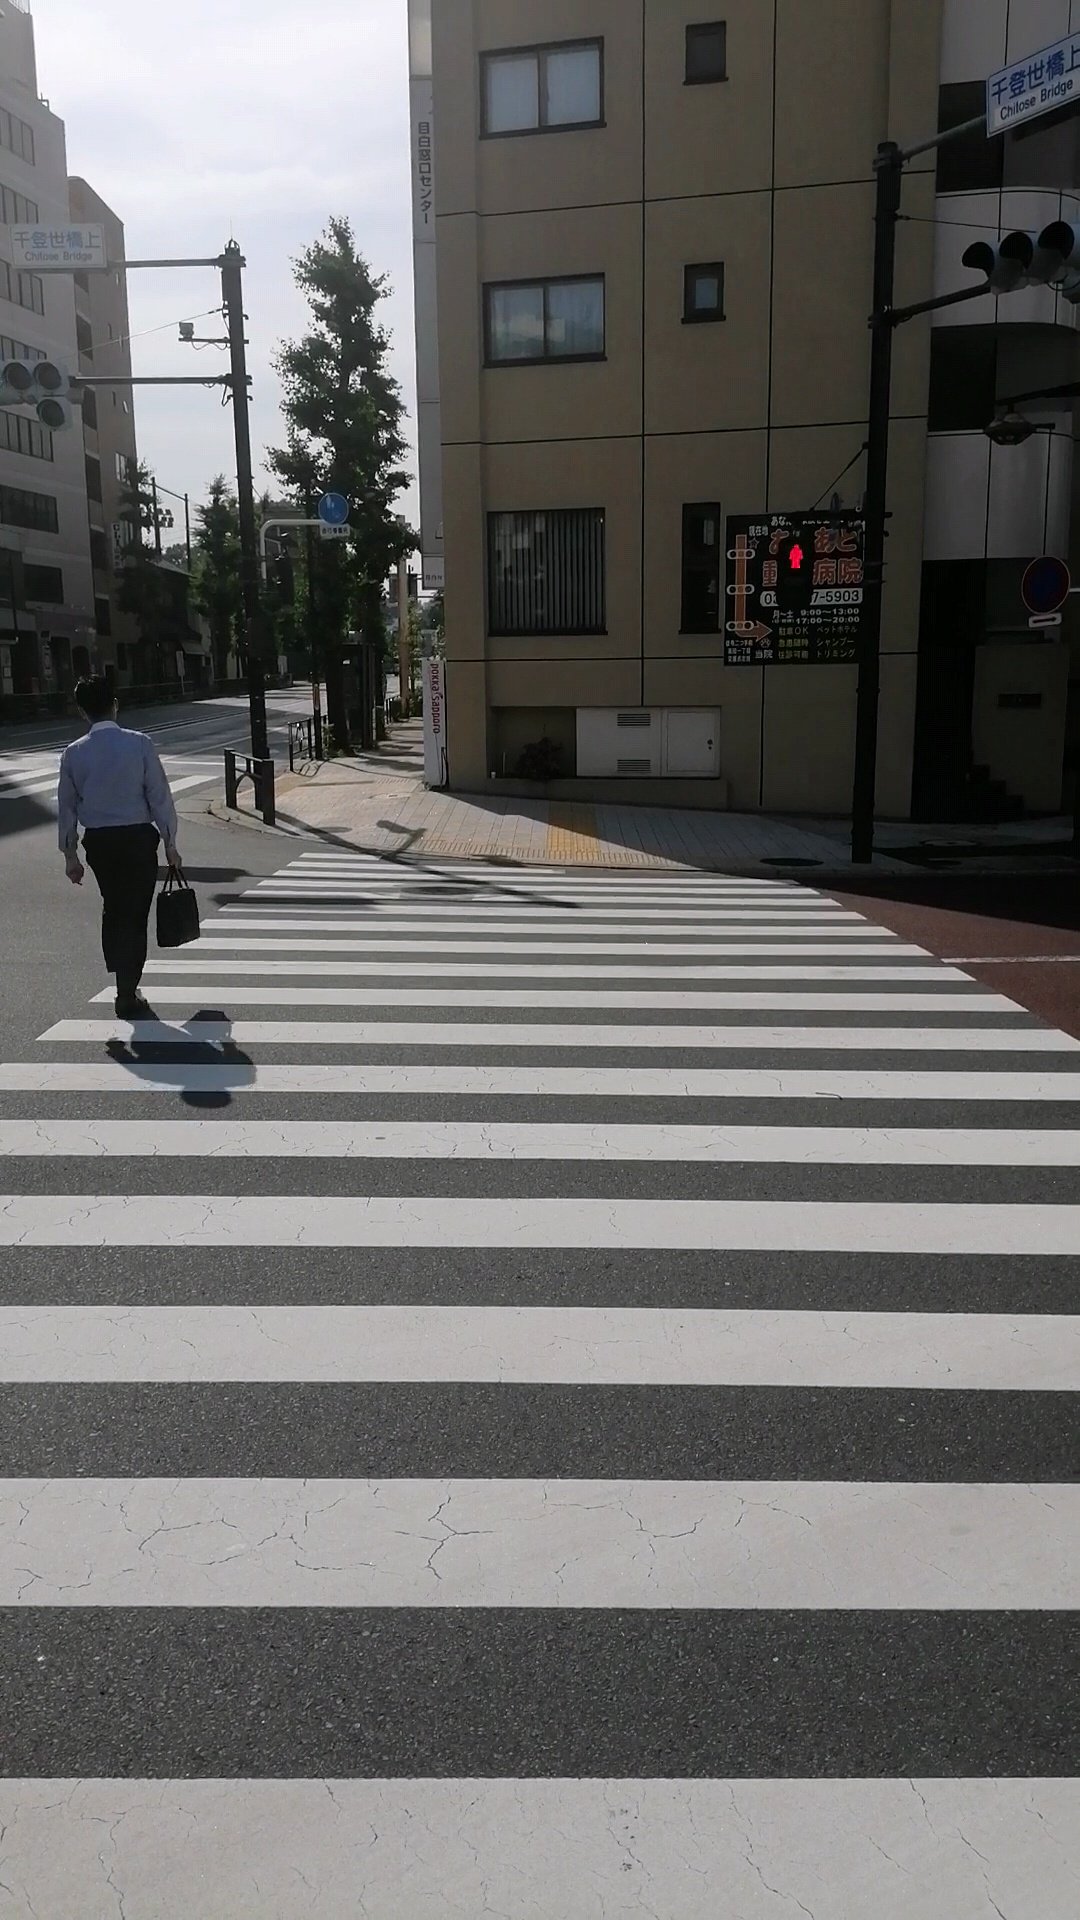red: (774, 535, 812, 611)
